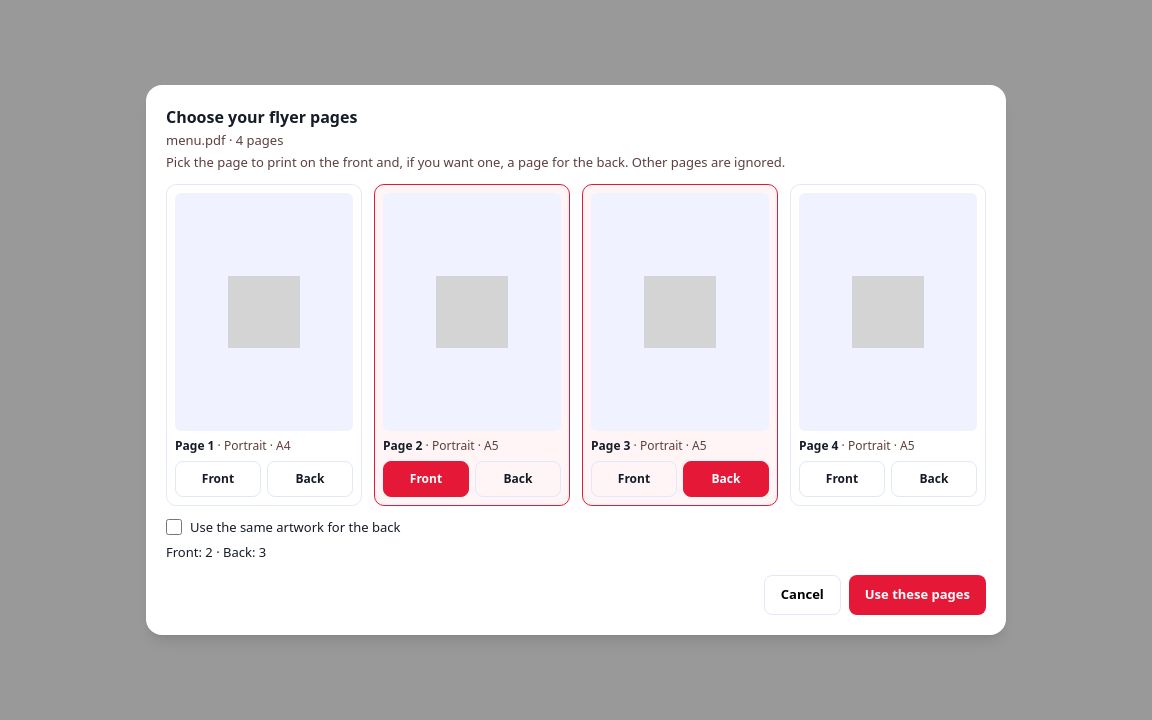
Test case: ReopenPagePicker › keeps the picker open with the server's reason when a choice is refused
Click the button with aria-label "Use page 4 as Front" at [842, 479], box [799, 461, 885, 497]
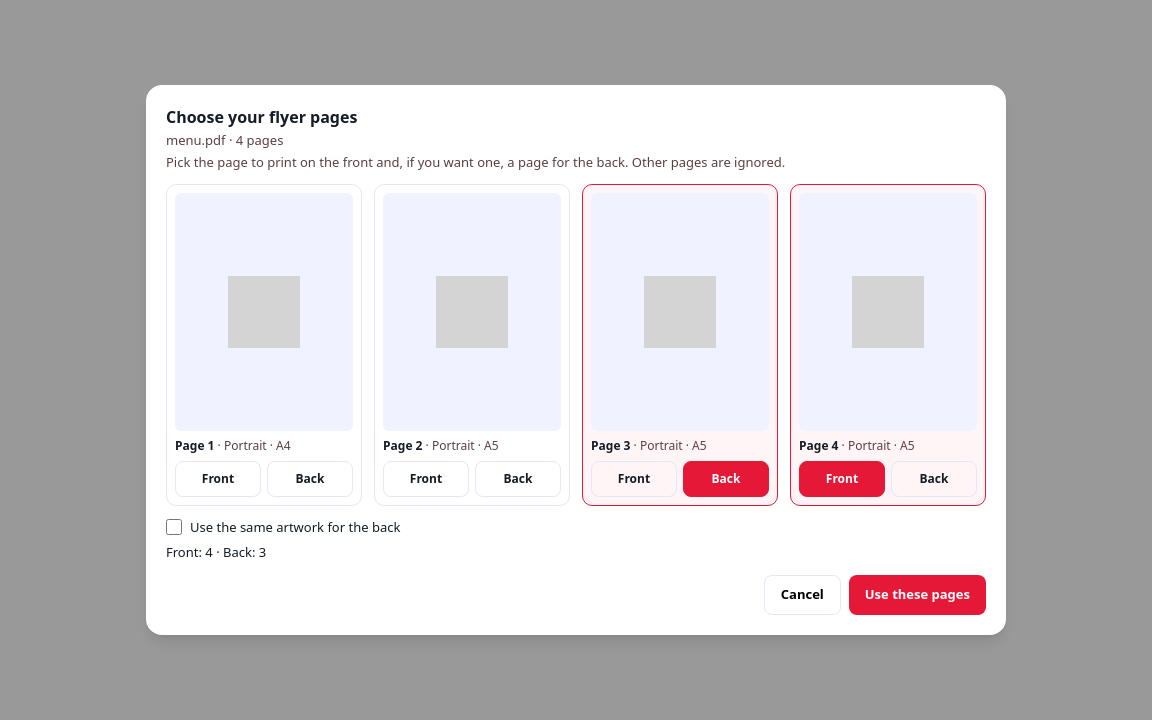
Click the button "Use these pages" at [917, 595], box [849, 575, 986, 615]
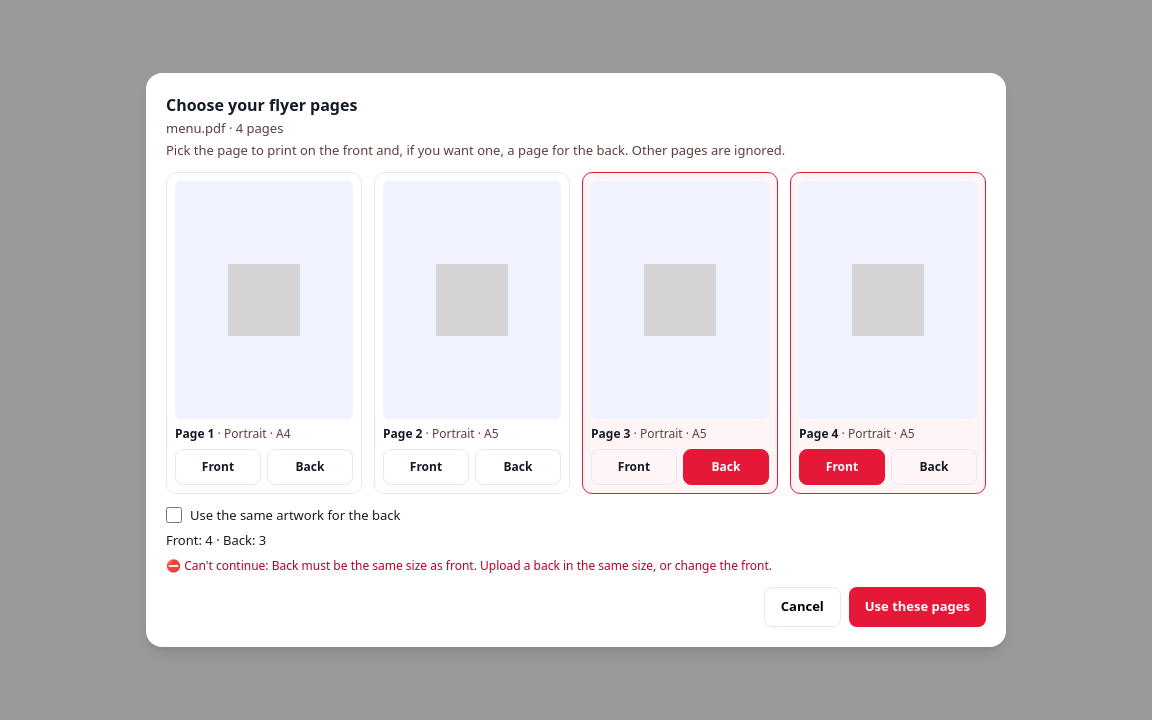
Check: the dialog "Choose your flyer pages" is shown, box [146, 73, 1006, 647]
Check: the message shows "Back must be the same size as front", box [272, 557, 772, 574]
